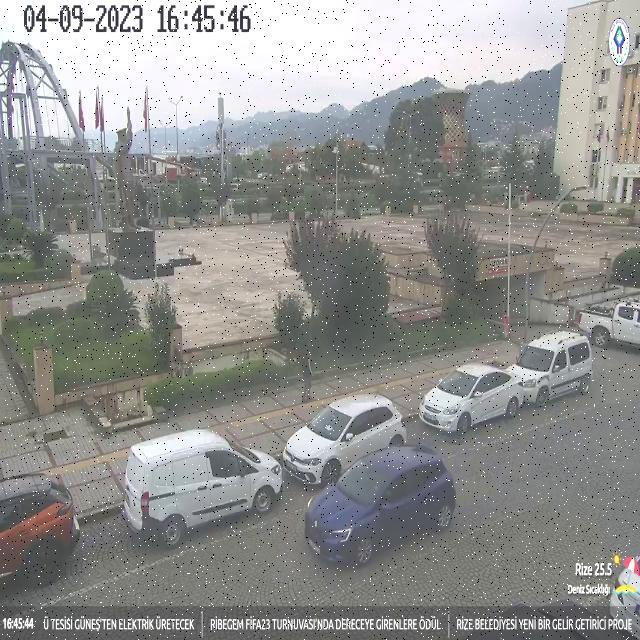car: (305, 446, 455, 563), (282, 394, 405, 484), (0, 476, 79, 589), (576, 302, 640, 346), (438, 370, 478, 397)
minivan: (125, 430, 284, 545), (510, 331, 592, 403)
